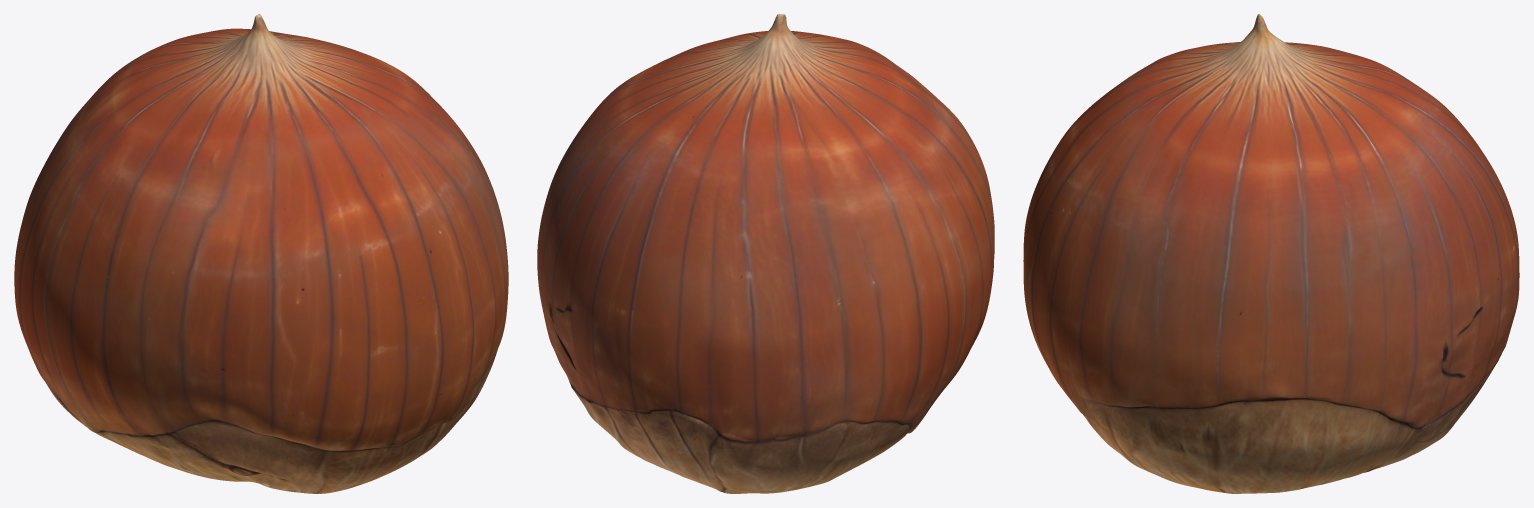
File: nuts.glb
3 renders of one model, left to right at view 1: azimuth 30°, elevation 25°; view 2: azimuth 150°, elevation 25°; view 3: azimuth 270°, elevation 25°, orthographic. The views are drawn at different scales.
Bounding box in the file's own units: 1.93 × 1.98 × 2.
1 material, 1 textured.
